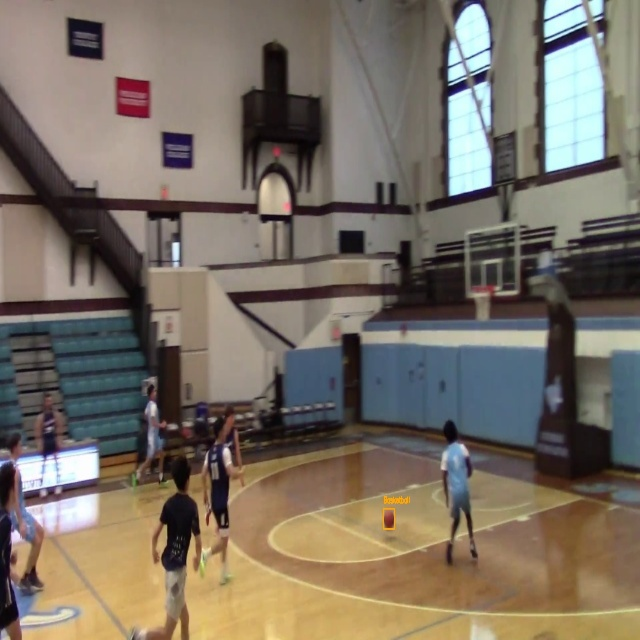Basketball: (383, 509, 394, 529)
